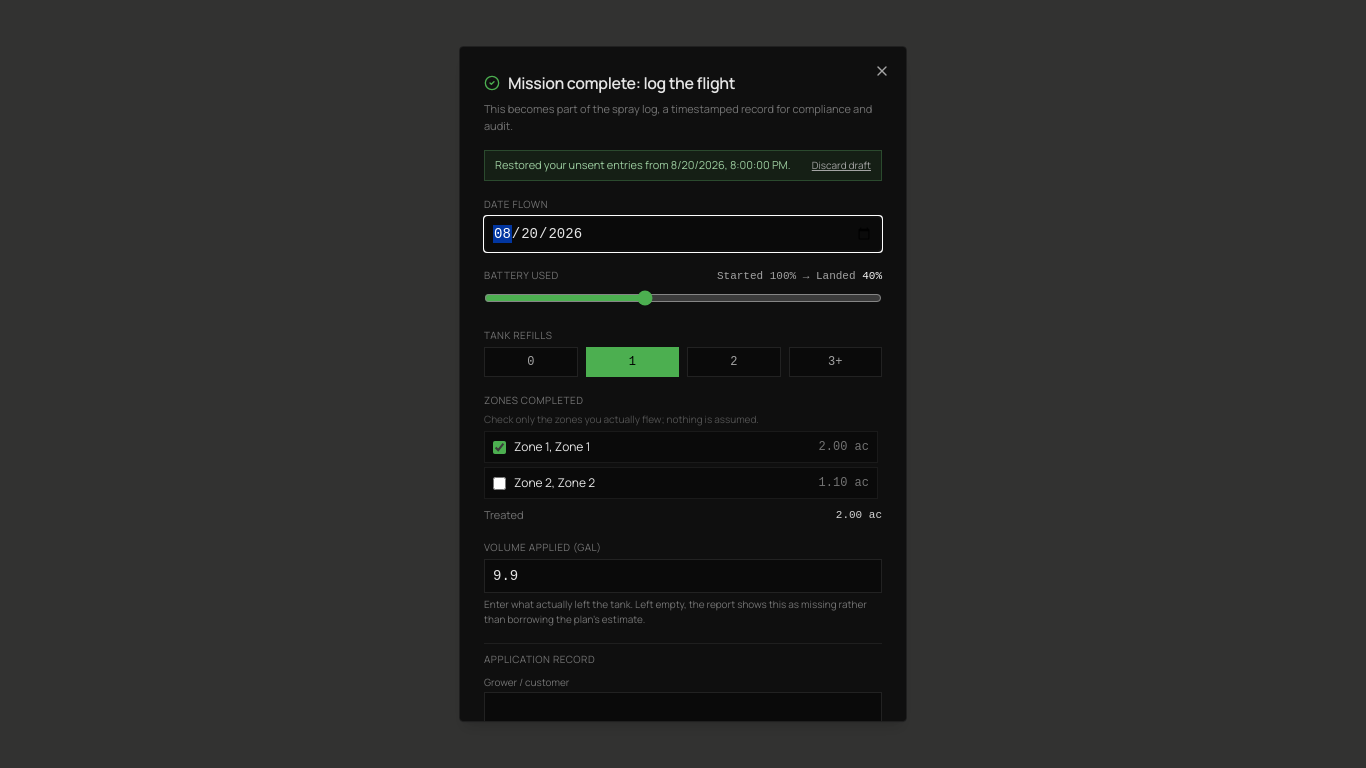
Test: the local draft survives a closed dialog › discarding the draft resets to honest defaults
expect the text "Restored your unsent entries from 8/20/2026, 8:00:00 PM." is shown: met, box 495,157 -> 791,174
expect the number field with placeholder "plan estimated ~6.8 gal" holds "9.9": met, box 484,559 -> 882,593
Click the button "Discard draft" at (841, 165), box 812,158 -> 871,173
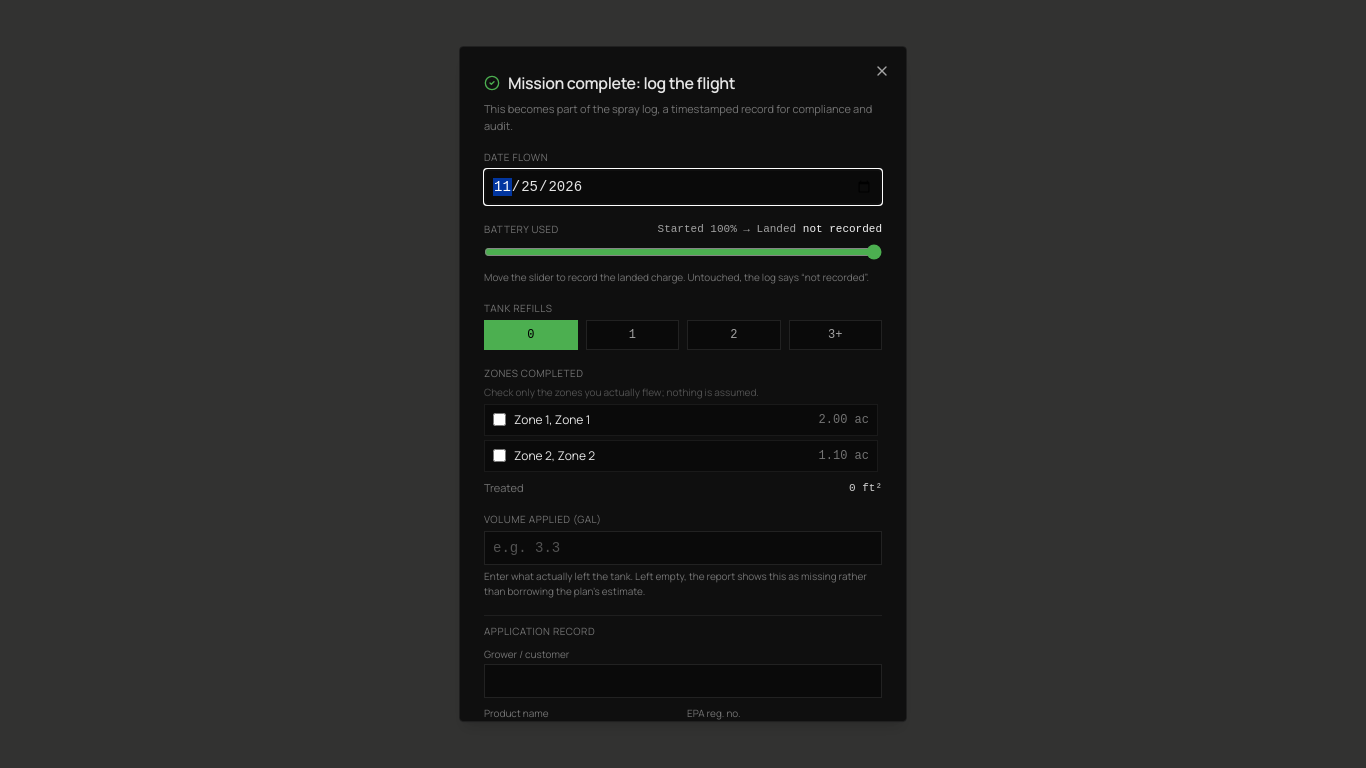
expect the number field with placeholder "e.g. 3.3" is empty: met, box 484,531 -> 882,565
expect the text "Restored your unsent entries" is gone: met
